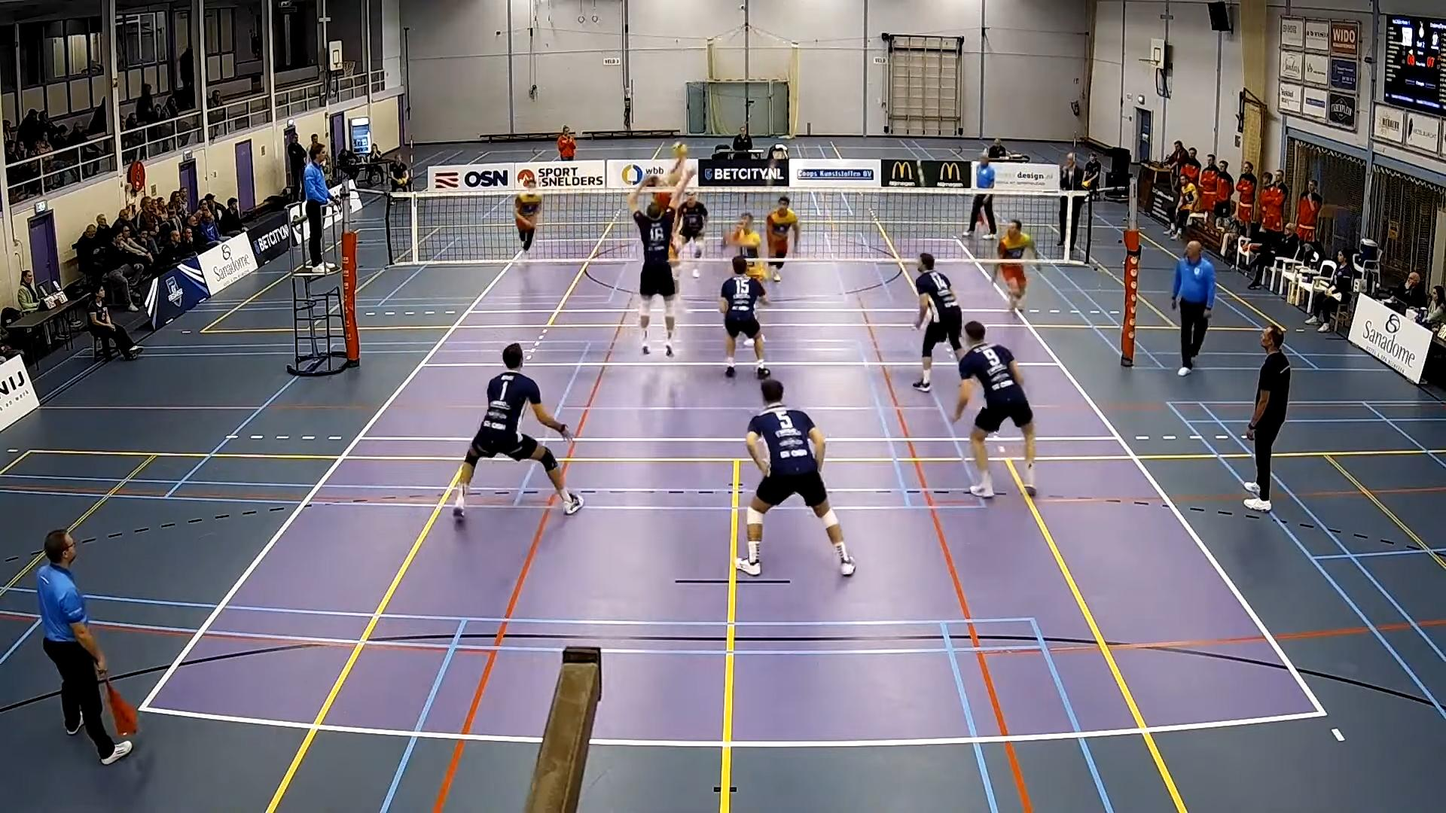alzata: (633, 134, 695, 214)
muro: (627, 168, 689, 348)
